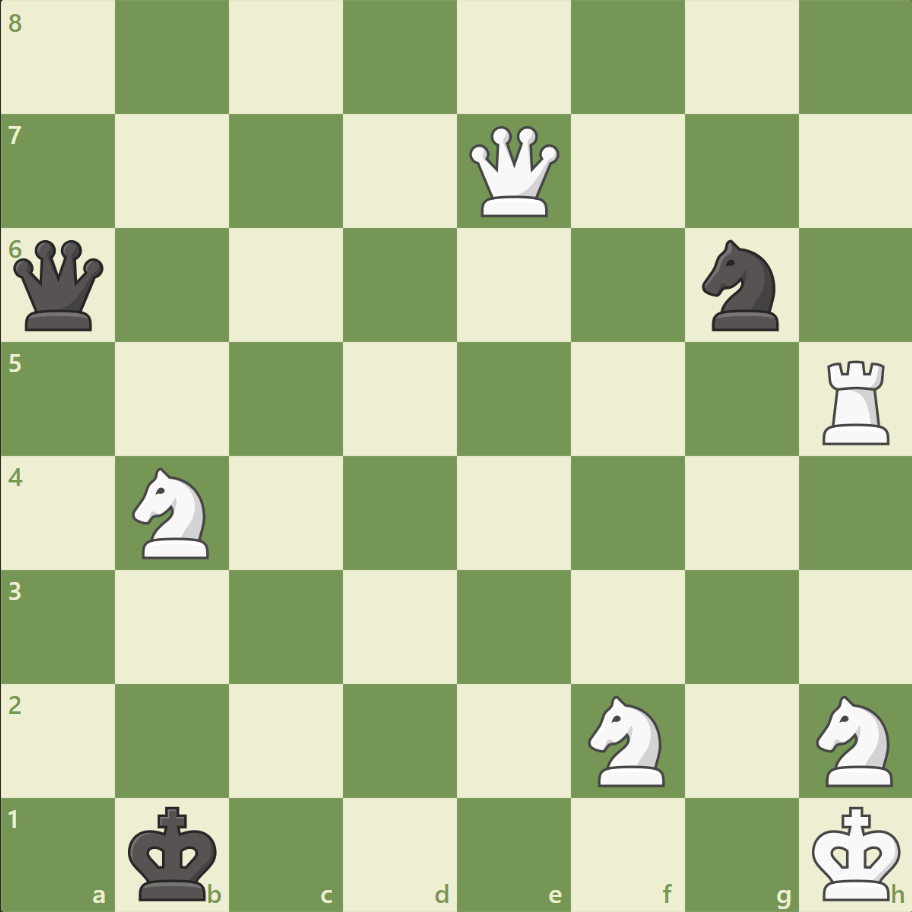K: (806, 798, 906, 906)
N: (124, 461, 222, 564), (579, 688, 676, 791), (806, 688, 903, 791)
Q: (464, 122, 563, 222)
R: (814, 352, 897, 449)
k: (124, 798, 224, 906)
n: (692, 234, 789, 337)
q: (10, 236, 109, 335)
